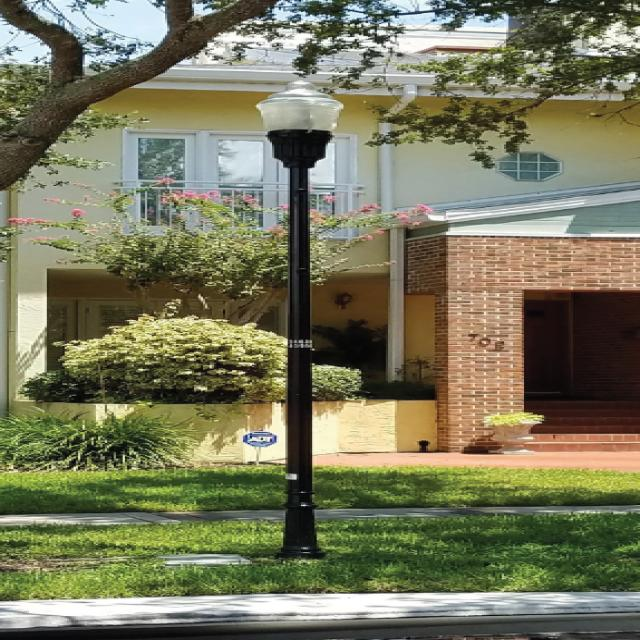Electric pole: (254, 80, 343, 559)
